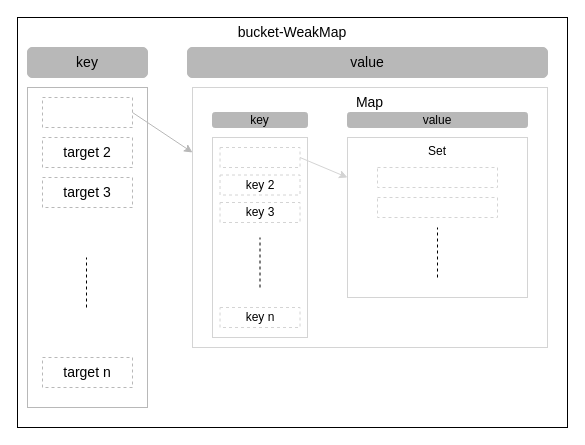
This 585x445 diagram has some shape labels left out. The shapes that lost their labels are listed below. From the top down, each one's centre as x and y in pixels, then its label:
point (87, 112): target 1
point (259, 157): key 1
point (437, 177): effectFn 1
point (437, 207): effectFn 2
